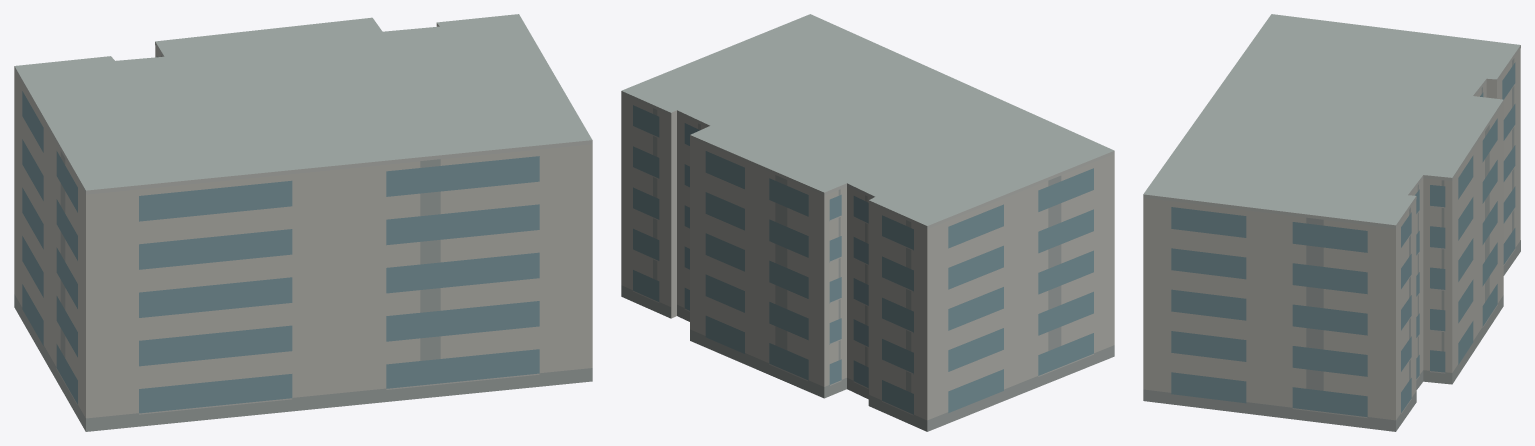
File: survey-upis-32855696.glb
The picture shows the model from 3 angles, left to right: view 1: azimuth 30°, elevation 25°; view 2: azimuth 150°, elevation 25°; view 3: azimuth 270°, elevation 25°; orthographic projection. The views are drawn at different scales.
Parts seen in each view (by area): view 1: survey-upis-32855696.tmp; view 2: survey-upis-32855696.tmp; view 3: survey-upis-32855696.tmp.
Boxes of the visible parts, x1,y1,x2,y2 form: survey-upis-32855696.tmp: (14,14,592,431); survey-upis-32855696.tmp: (621,14,1114,431); survey-upis-32855696.tmp: (1143,14,1520,431).
Size of the model in its own units: 33.46 by 15.25 by 25.27.
